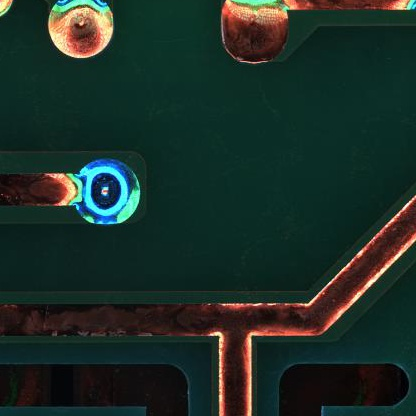spot: (75, 159, 142, 225)
